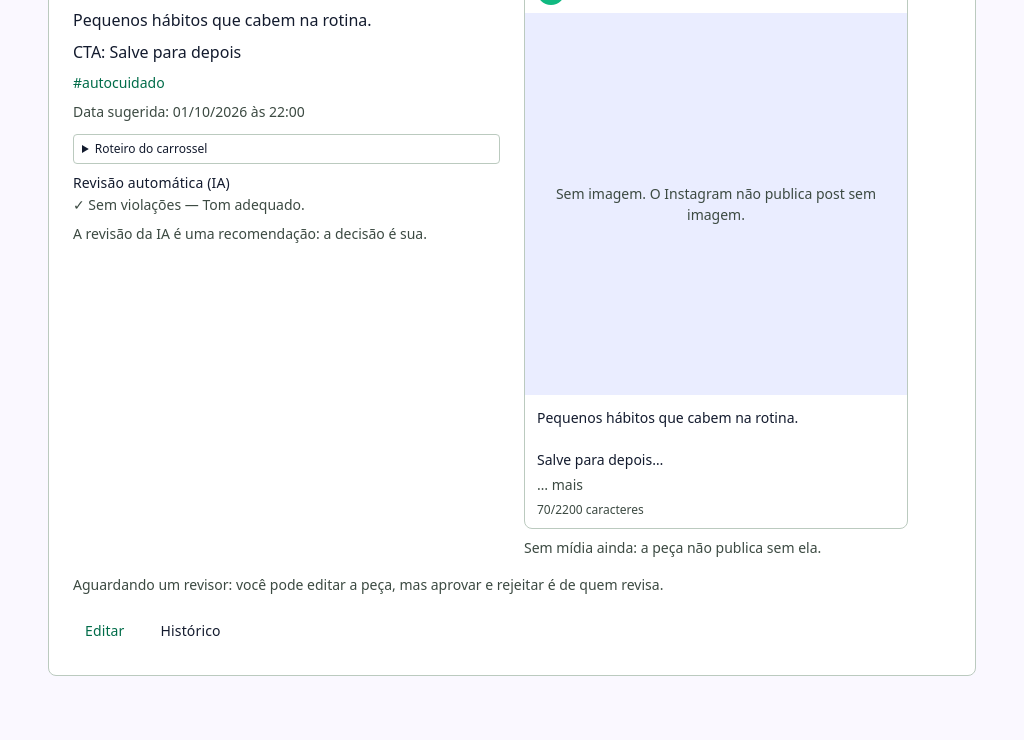
it: restaurar pede confirmação, manda a versão atual e mostra a resposta do servidor
(page scrolled)
Click the button "Histórico" at (191, 631), box left=144, top=611, right=237, bottom=651
(page scrolled)
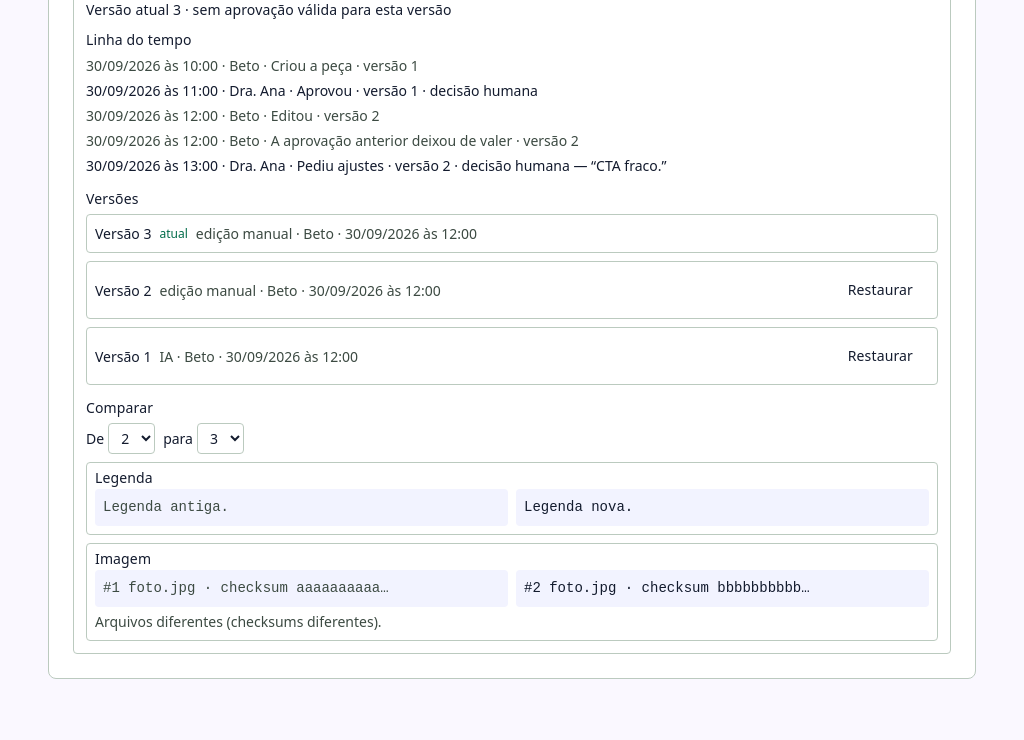
Result: the number of buttons "Restaurar" is 2
Click the 2nd button "Restaurar" at (880, 356), box left=832, top=336, right=929, bottom=376
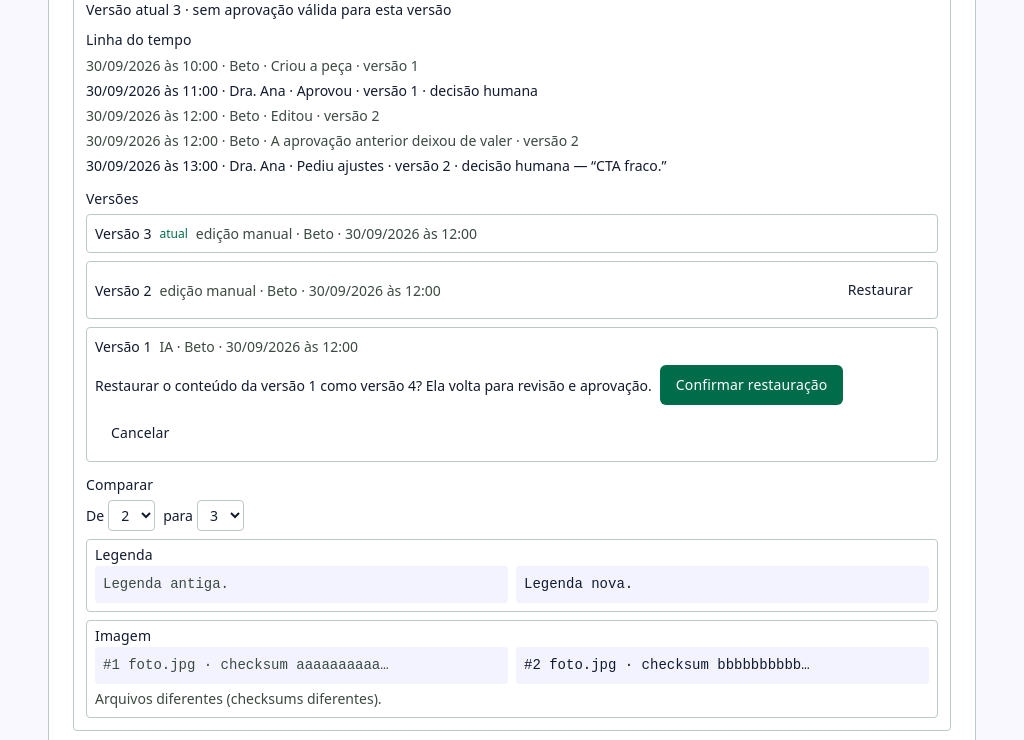
Result: the text "Restaurar o conteúdo da versão 1 como versão 4?" is shown at left=95, top=375, right=652, bottom=396
Click the button "Confirmar restauração" at (752, 385), box left=660, top=365, right=843, bottom=405
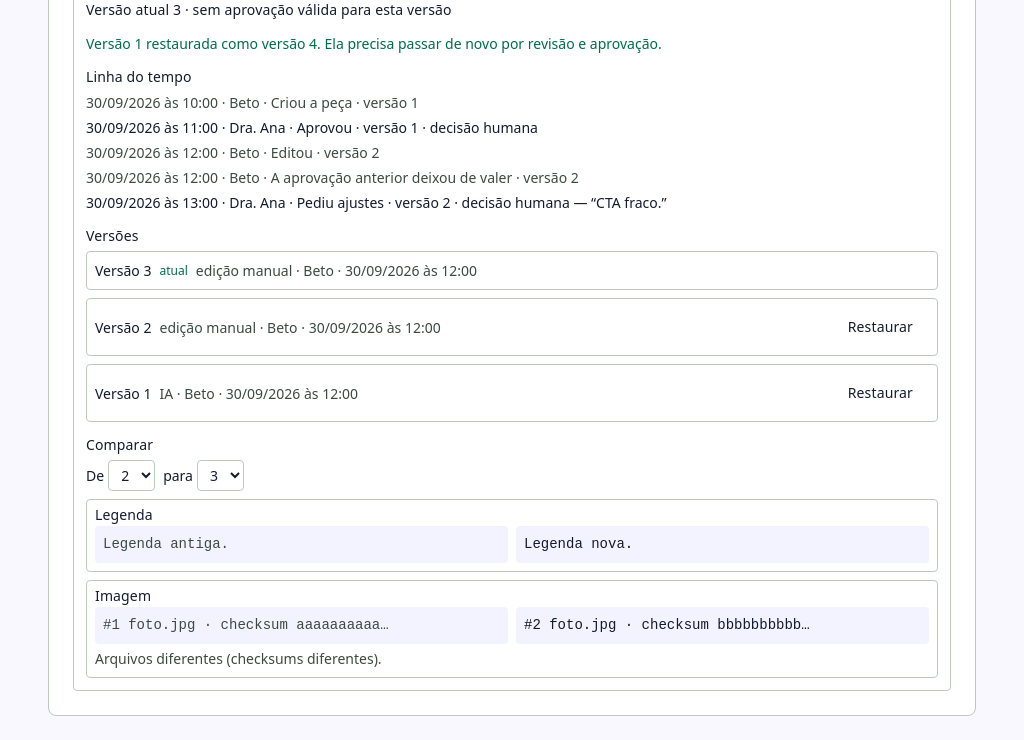
Result: the text "Versão 1 restaurada como versão 4" is shown at left=86, top=34, right=662, bottom=53
